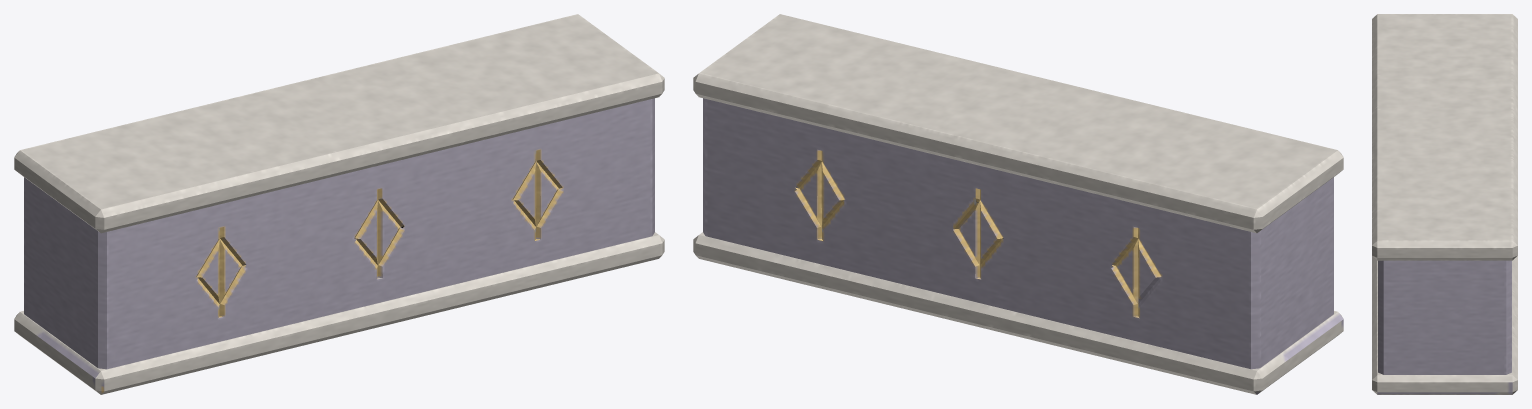
Rendered from cover_bar.glb.
3 renders of one model, left to right at view 1: azimuth 30°, elevation 25°; view 2: azimuth 150°, elevation 25°; view 3: azimuth 270°, elevation 25°, orthographic. The views are drawn at different scales.
Visible parts, largest first — view 1: CarvedStone, Capstone, Footing; view 2: CarvedStone, Capstone, Footing; view 3: Capstone, CarvedStone, Footing.
Part boxes in pixels (<box>): CarvedStone: <box>24,98,654,369</box>; Capstone: <box>14,14,664,233</box>; Footing: <box>14,232,664,394</box>; CarvedStone: <box>703,98,1333,369</box>; Capstone: <box>693,14,1343,233</box>; Footing: <box>693,232,1343,394</box>; Capstone: <box>1372,14,1517,260</box>; CarvedStone: <box>1378,260,1511,374</box>; Footing: <box>1372,256,1517,394</box>.
Size of the model in its own units: 4.5 by 1.4 by 1.2.
Materials: 3 (3 with a texture image).
